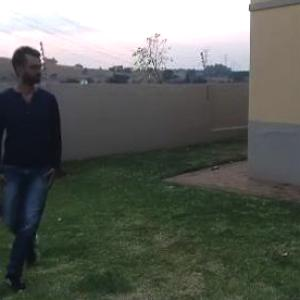follow: (3, 38, 72, 279)
